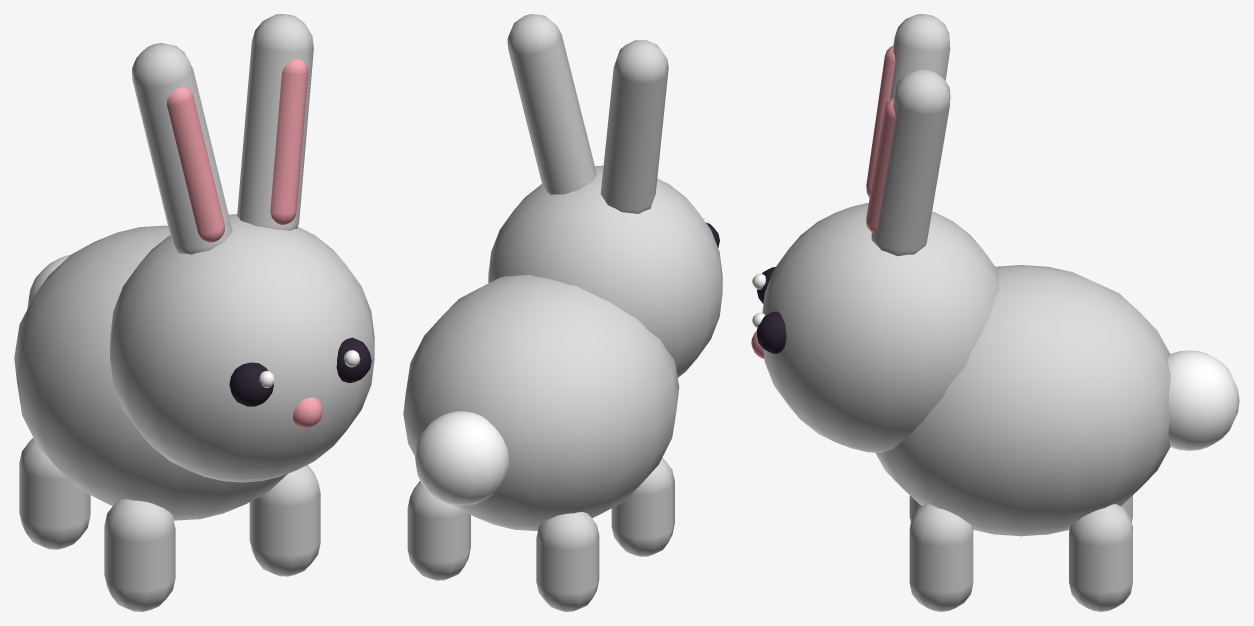
File: pet_rabbit_ph.glb
The picture shows the model from 3 angles, left to right: view 1: azimuth 30°, elevation 25°; view 2: azimuth 150°, elevation 25°; view 3: azimuth 270°, elevation 25°; orthographic projection. The views are drawn at different scales.
Parts seen in each view (by area): view 1: pet_rabbit; view 2: pet_rabbit; view 3: pet_rabbit.
Boxes of the visible parts, left/top/right/bottom form: pet_rabbit: left=14, top=14, right=374, bottom=611; pet_rabbit: left=403, top=14, right=722, bottom=611; pet_rabbit: left=751, top=14, right=1239, bottom=611.
Size of the model in its own units: 0.34 by 0.698 by 0.5815.
